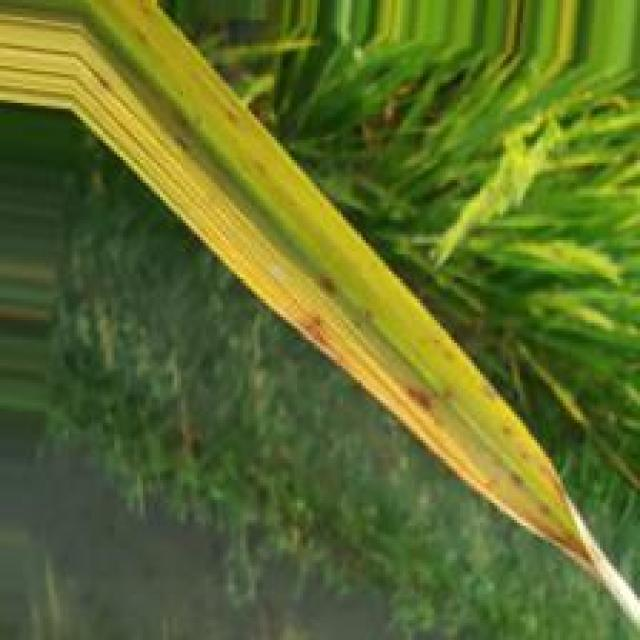Brown_Spot: (296, 313, 341, 360), (403, 385, 437, 411), (316, 269, 341, 303), (511, 472, 529, 496)
